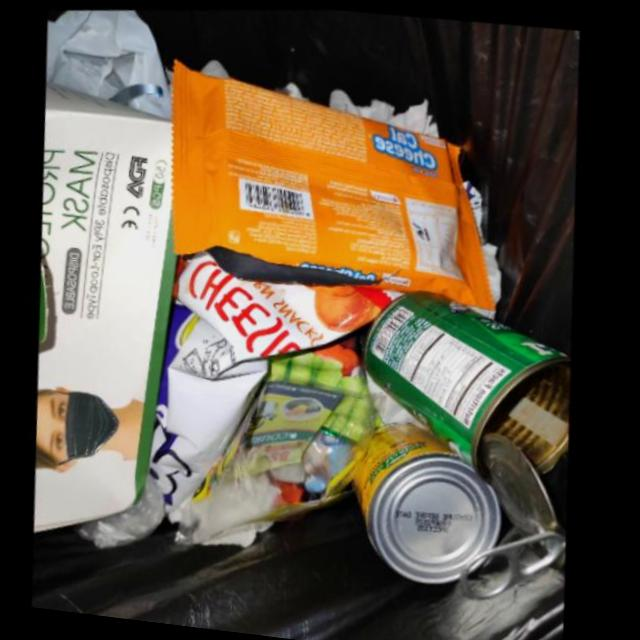bao_bi_thuc_pham: (170, 56, 494, 307), (148, 246, 402, 509)
carton: (33, 74, 175, 526)
goi_nhua_nho: (240, 376, 345, 467)
nhom: (364, 288, 569, 536), (350, 420, 499, 581)
